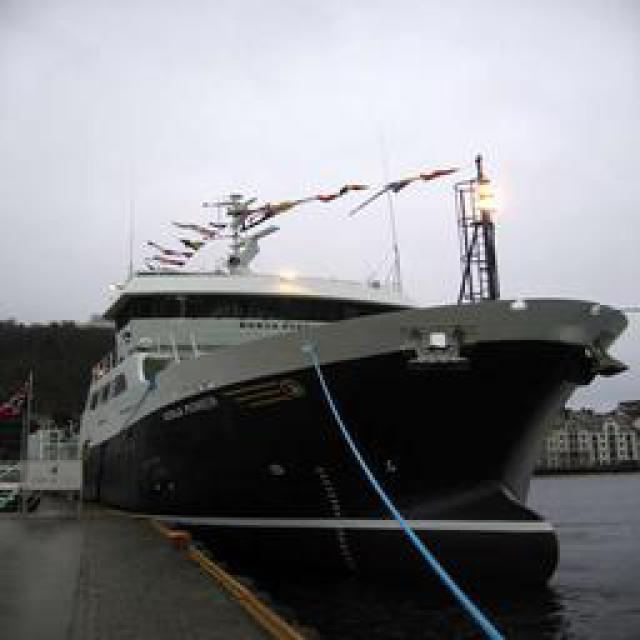Ship: (74, 206, 627, 589)
